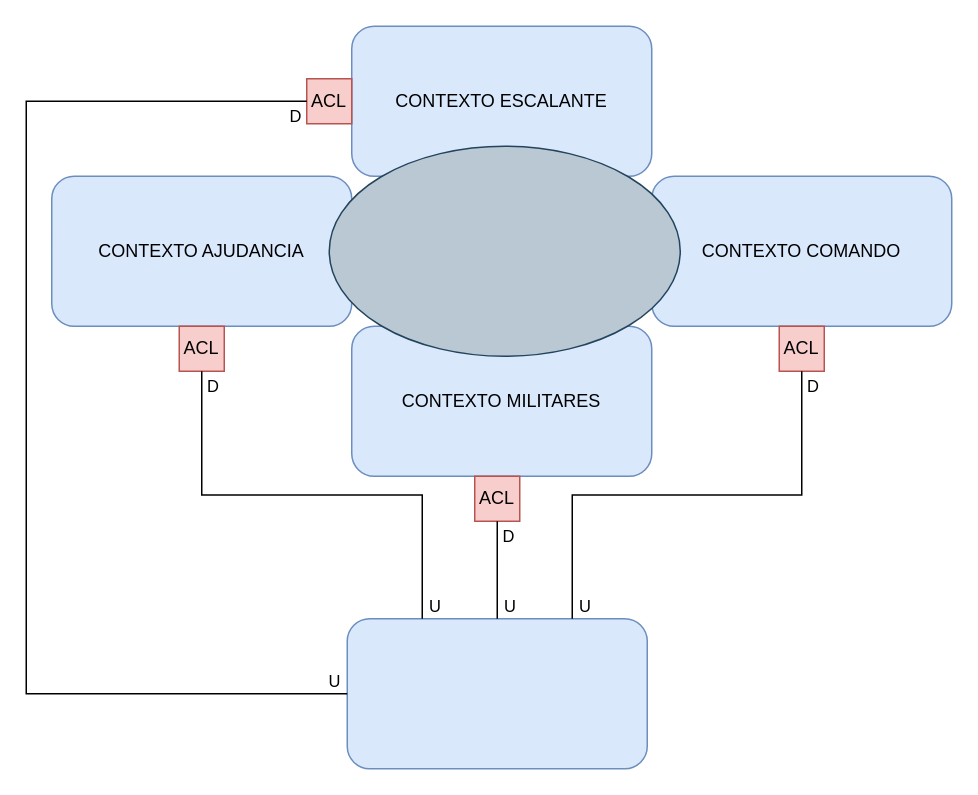
The diagram is 978 pixels wide and 795 high, and some of its shapes have lost their labels. The shapes that lost their labels are listed below. From the top down, each one's box as (x1, y1, x2, y2) in pixels, then its label:
(328, 145, 680, 356): Núcleo Compartilhado
(346, 617, 647, 769): CONTEXTO SEGURANÇA
